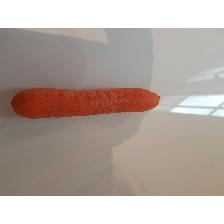Karotte: (9, 76, 163, 127)
